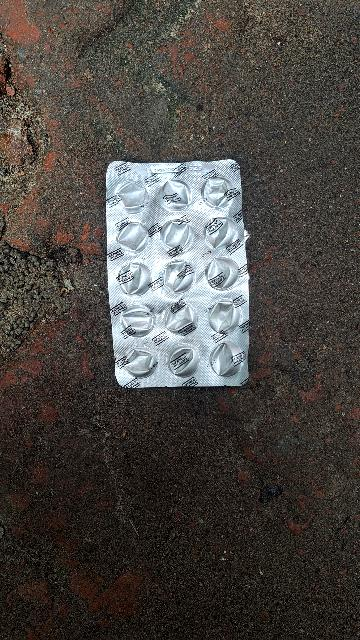medicine: (99, 145, 266, 396)
